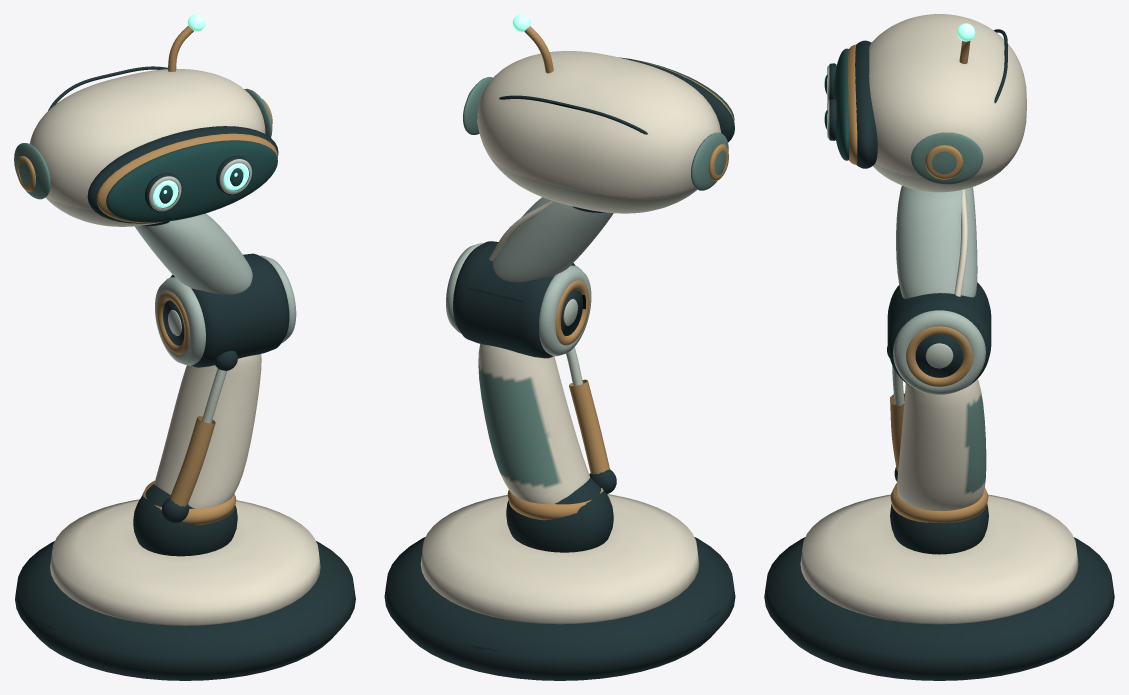
The model's file is robot.glb.
3 views of the same model, side by side, from view 1: azimuth 30°, elevation 25°; view 2: azimuth 150°, elevation 25°; view 3: azimuth 270°, elevation 25° (orthographic). The views are drawn at different scales.
Visible parts, largest first — view 1: ceramic base fairing, weighted base, formed ivory brow, lower curved shell, curved optical face, chamfered elbow motor housing, upper curved shell, shoulder boot, visor recessed socket, ceramic pivot cheek, satin visor perimeter, actuator cylinder (+5 smaller); view 2: formed ivory brow, ceramic base fairing, weighted base, lower curved shell, chamfered elbow motor housing, upper curved shell, shoulder boot, ceramic pivot cheek, actuator cylinder, cheek service panel, shoulder articulation collar, copper bearing race (+5 smaller); view 3: ceramic base fairing, weighted base, formed ivory brow, lower curved shell, upper curved shell, chamfered elbow motor housing, ceramic pivot cheek.001, shoulder boot, cheek service panel.001, visor recessed socket, copper bearing race.001, shoulder articulation collar (+7 smaller).
Boxes of the visible parts, left/top/right/bottom form: ceramic base fairing: left=50, top=499, right=320, bottom=625; weighted base: left=15, top=541, right=355, bottom=680; formed ivory brow: left=29, top=69, right=265, bottom=226; lower curved shell: left=154, top=354, right=261, bottom=508; curved optical face: left=106, top=140, right=277, bottom=222; chamfered elbow motor housing: left=163, top=253, right=289, bottom=367; upper curved shell: left=134, top=213, right=252, bottom=294; shoulder boot: left=133, top=484, right=237, bottom=556; visor recessed socket: left=87, top=126, right=278, bottom=223; ceramic pivot cheek: left=155, top=277, right=205, bottom=365; satin visor perimeter: left=96, top=133, right=277, bottom=222; actuator cylinder: left=170, top=416, right=215, bottom=506; formed ivory brow: left=477, top=51, right=721, bottom=213; ceramic base fairing: left=420, top=494, right=699, bottom=624; weighted base: left=384, top=537, right=735, bottom=680; lower curved shell: left=478, top=344, right=590, bottom=503; chamfered elbow motor housing: left=453, top=241, right=582, bottom=358; upper curved shell: left=492, top=197, right=613, bottom=282; shoulder boot: left=506, top=478, right=613, bottom=552; ceramic pivot cheek: left=539, top=265, right=591, bottom=356; actuator cylinder: left=569, top=379, right=609, bottom=474; cheek service panel: left=691, top=132, right=728, bottom=190; shoulder articulation collar: left=507, top=473, right=603, bottom=520; copper bearing race: left=555, top=280, right=589, bottom=345; ceramic base fairing: left=800, top=494, right=1078, bottom=624; weighted base: left=764, top=537, right=1114, bottom=680; formed ivory brow: left=869, top=14, right=1026, bottom=192; lower curved shell: left=897, top=379, right=986, bottom=510; upper curved shell: left=896, top=185, right=977, bottom=298; chamfered elbow motor housing: left=887, top=282, right=991, bottom=388; ceramic pivot cheek.001: left=893, top=310, right=985, bottom=394; shoulder boot: left=890, top=504, right=988, bottom=554; cheek service panel.001: left=911, top=132, right=983, bottom=184; visor recessed socket: left=855, top=40, right=877, bottom=168; copper bearing race.001: left=906, top=326, right=972, bottom=386; shoulder articulation collar: left=890, top=483, right=988, bottom=522.
Size of the model in its own units: 1.91 by 3.49 by 1.84.
Materials: 9 (9 with a texture image).
